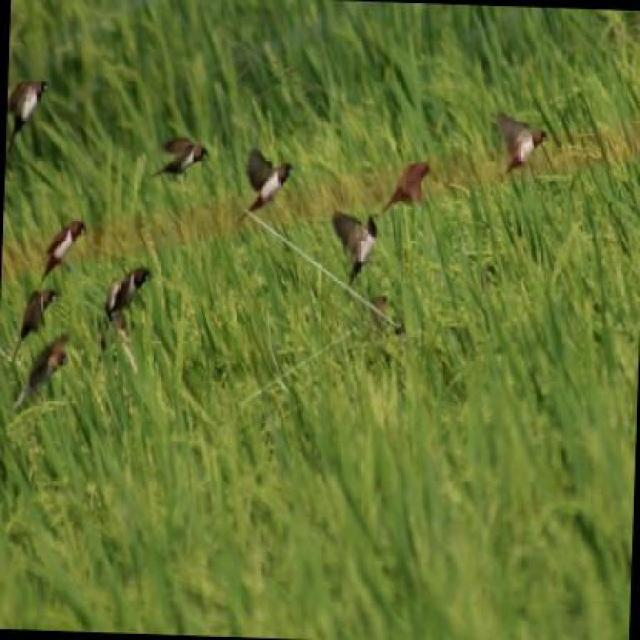Bird: (236, 148, 293, 222), (17, 332, 72, 406), (332, 210, 382, 285), (495, 110, 547, 178), (13, 286, 64, 354), (40, 217, 90, 285), (7, 77, 51, 150), (101, 265, 153, 323), (379, 159, 432, 213), (154, 134, 211, 180)
